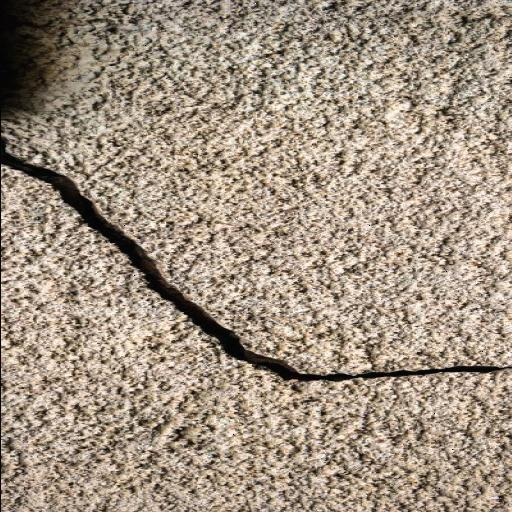spalling: (8, 138, 512, 389)
